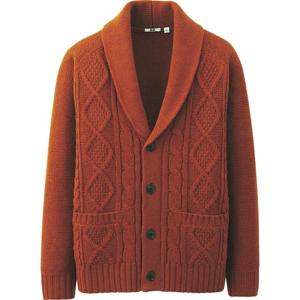C_cardigan sweater: (37, 8, 255, 300)
